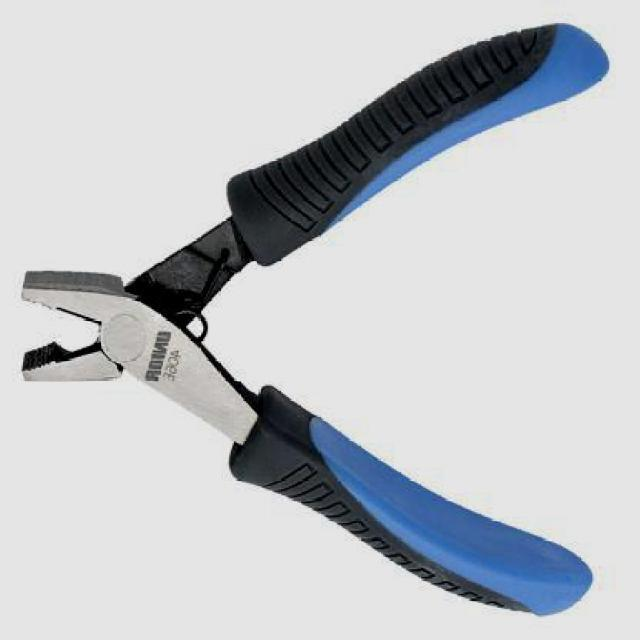pliers: (23, 24, 614, 618)
